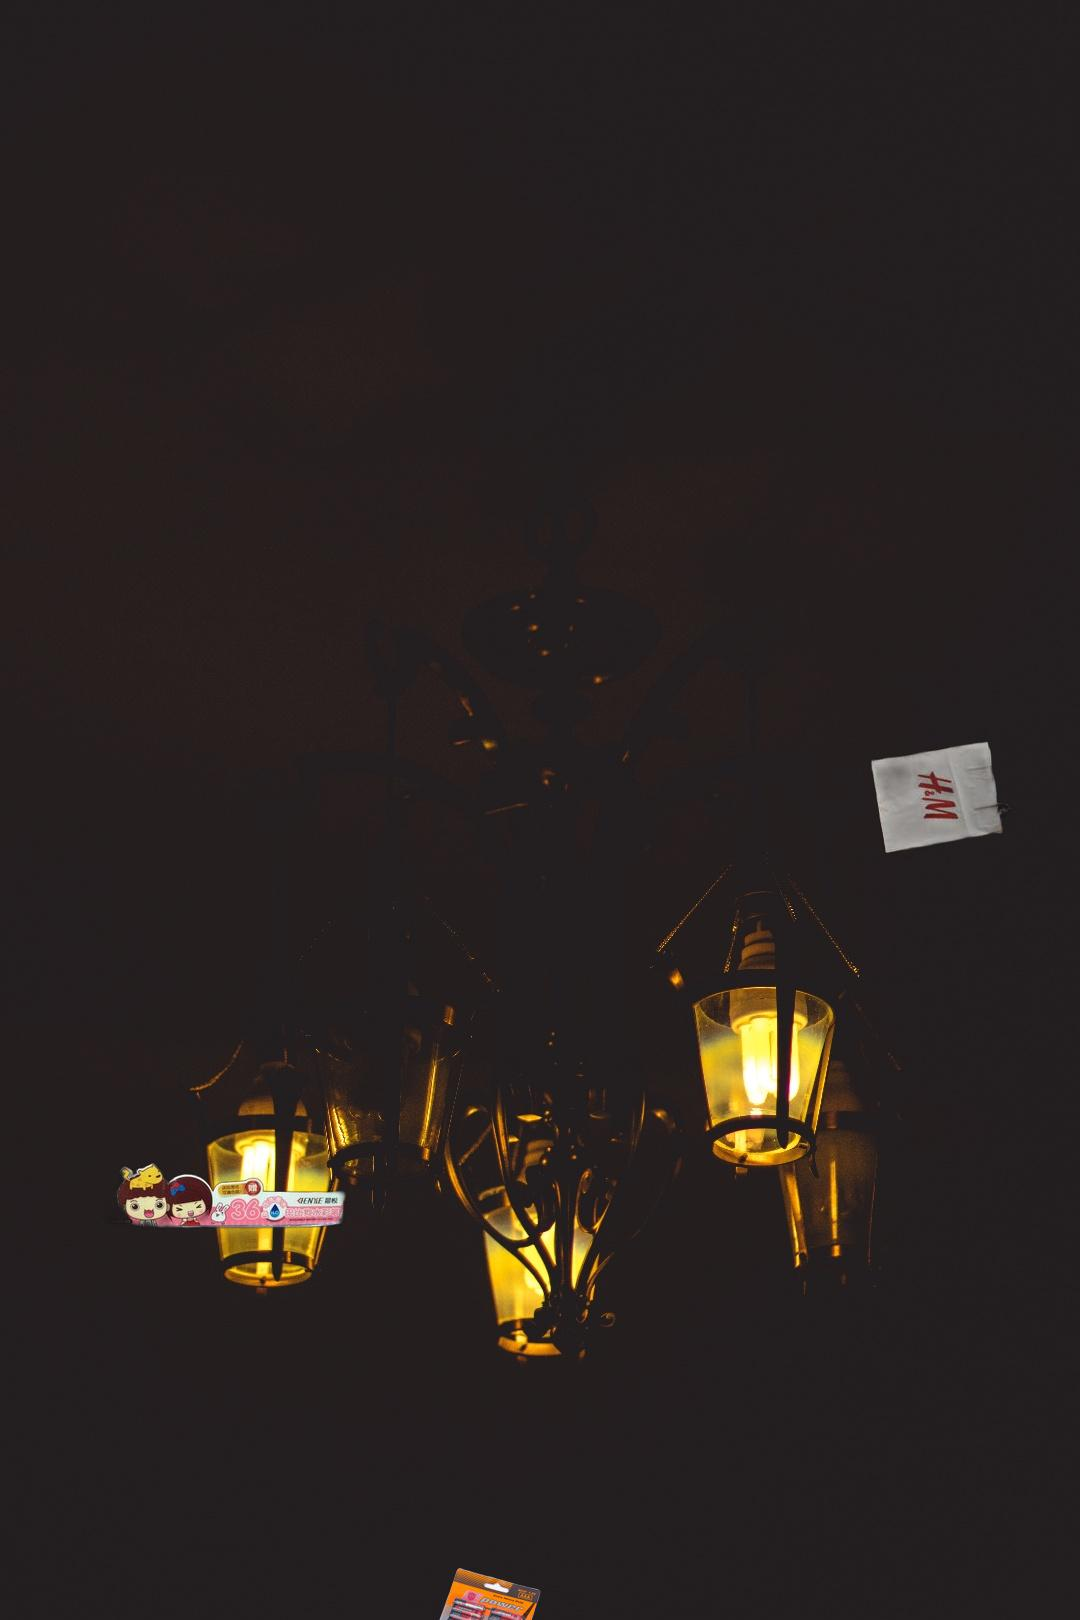battery: (423, 1565, 542, 1620)
glass: (610, 1618, 1080, 1620)
paper-bag: (861, 610, 1080, 859)
penholder: (101, 1078, 350, 1231)
